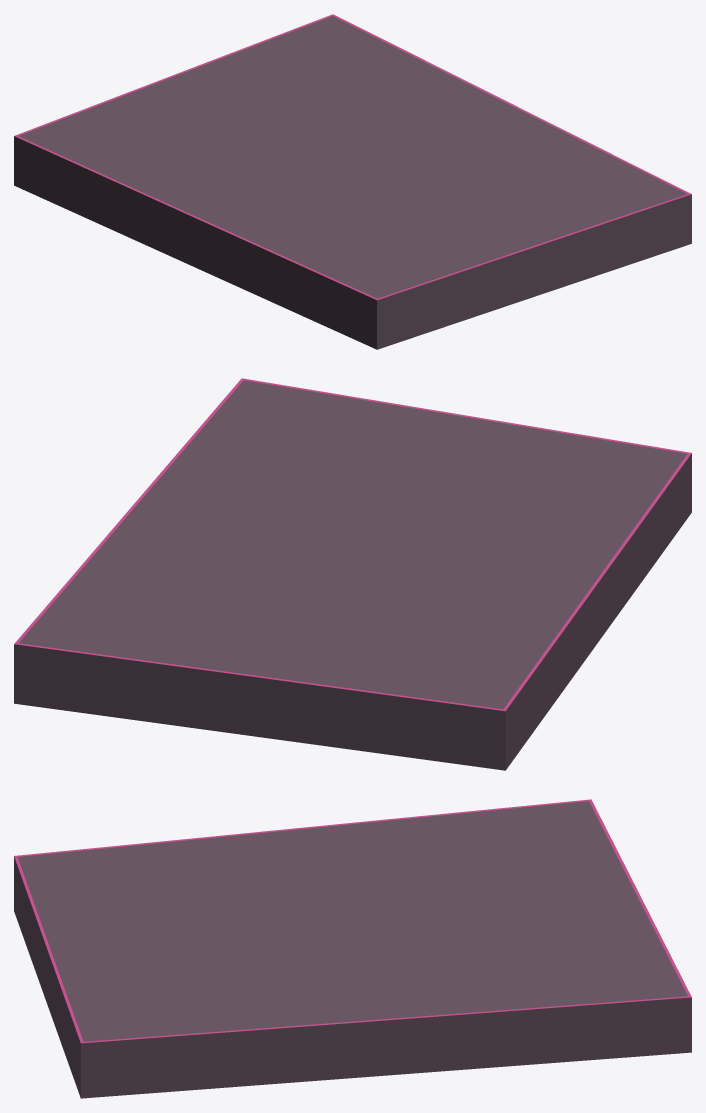
File: way-641119441.glb
3 views of the same model, one above another, from view 1: azimuth 30°, elevation 25°; view 2: azimuth 150°, elevation 25°; view 3: azimuth 270°, elevation 25° (orthographic). The views are drawn at different scales.
Parts seen in each view (by area): view 1: way-641119441; view 2: way-641119441; view 3: way-641119441.
Boxes of the visible parts, x1=… form: way-641119441: x1=14, y1=14, x2=691, y2=349; way-641119441: x1=14, y1=378, x2=691, y2=770; way-641119441: x1=14, y1=799, x2=691, y2=1098.
Size of the model in its own units: 28.46 by 3 by 33.41.
